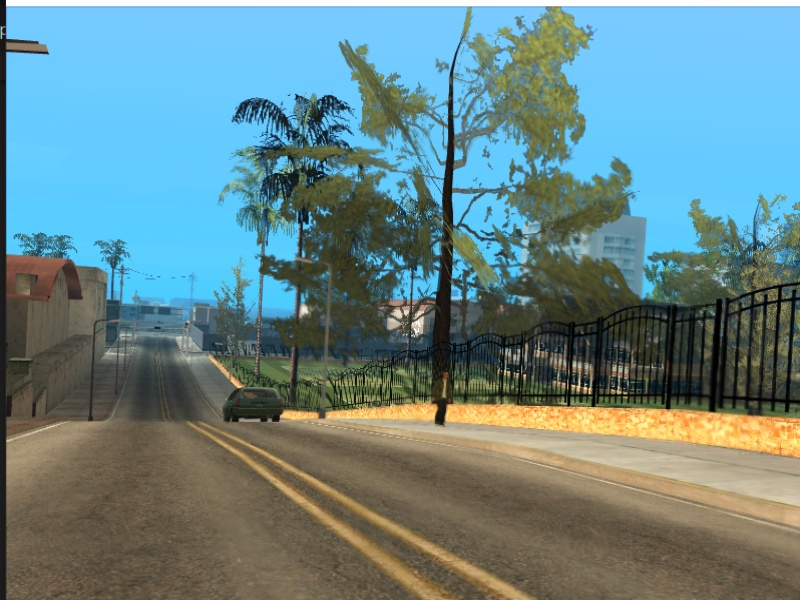person: (428, 368, 455, 425)
pole: (321, 261, 335, 422), (87, 319, 98, 423), (114, 327, 123, 399)
vehicle: (219, 384, 286, 422)
